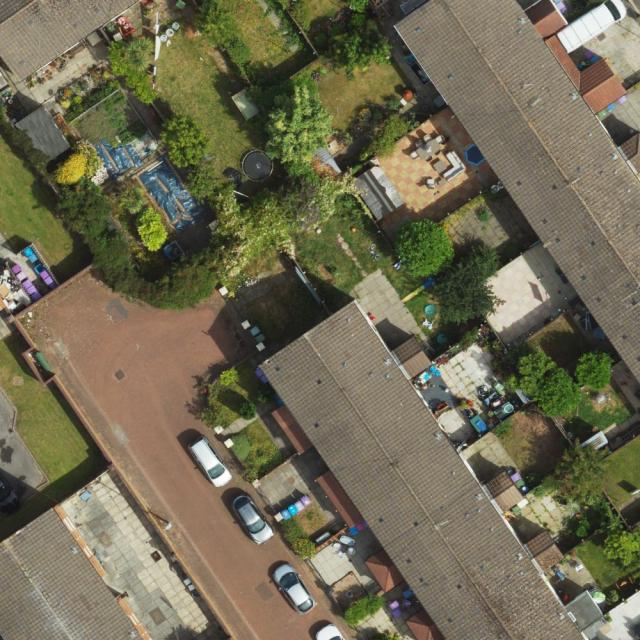roof: (259, 299, 613, 640), (393, 0, 640, 383), (0, 507, 147, 640), (0, 0, 145, 83)
